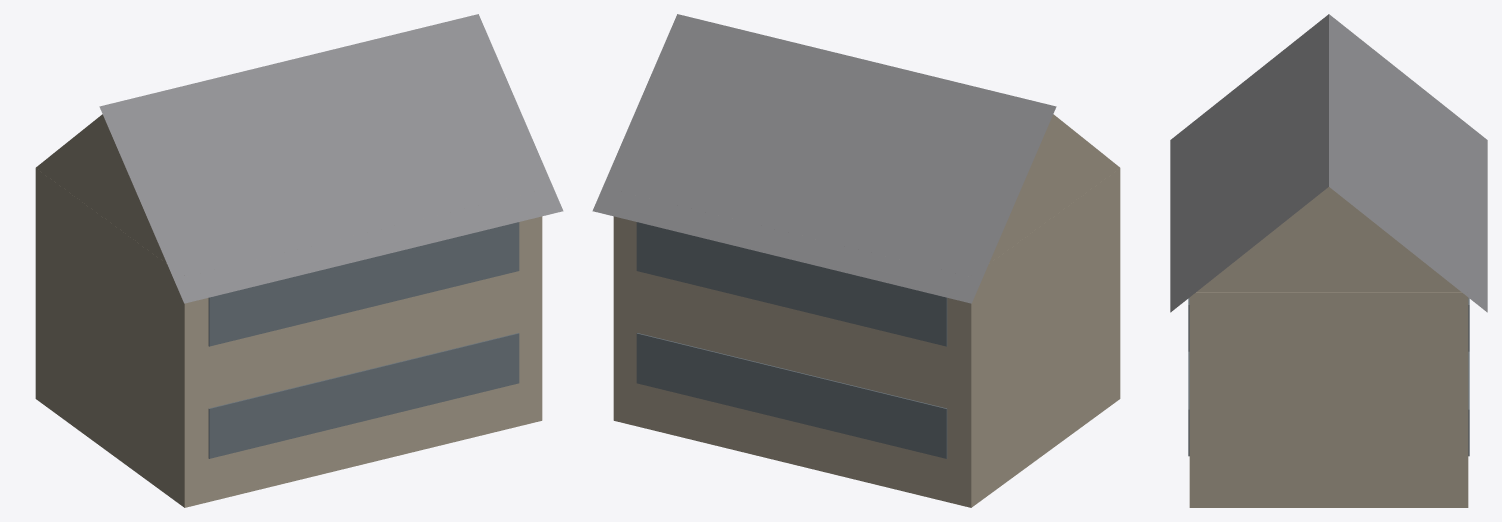
File: cottage-stone.loc-v1.lod2.glb
3 renders of one model, left to right at view 1: azimuth 30°, elevation 25°; view 2: azimuth 150°, elevation 25°; view 3: azimuth 270°, elevation 25°, orthographic. The views are drawn at different scales.
Visible parts, largest first — view 1: cottage-stone; view 2: cottage-stone; view 3: cottage-stone.
Part boxes in pixels (left/top/right/bottom): cottage-stone: left=35, top=14, right=563, bottom=507; cottage-stone: left=592, top=14, right=1120, bottom=507; cottage-stone: left=1170, top=14, right=1487, bottom=507.
Size of the model in its own units: 9.54 by 8.4 by 7.4.
